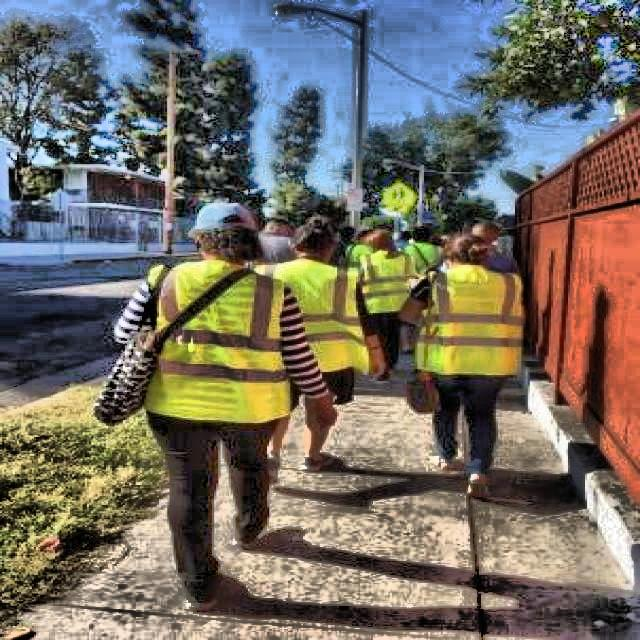safety_jacket: (138, 254, 318, 429), (416, 268, 531, 394), (360, 259, 428, 335)
